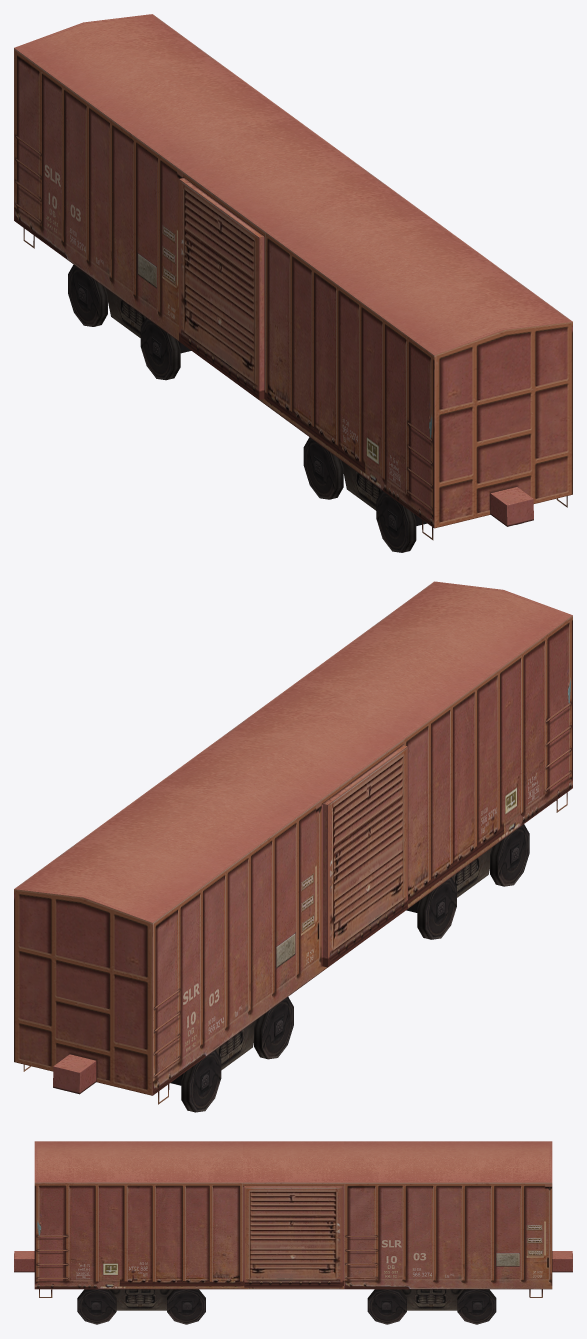
Rendered from Box_Car_LOD_01.fbx.
The picture shows the model from 3 angles, top to bottom: view 1: azimuth 30°, elevation 25°; view 2: azimuth 150°, elevation 25°; view 3: azimuth 270°, elevation 25°; orthographic projection. The views are drawn at different scales.
Parts seen in each view (by area): view 1: BoxCar_Body, Wheels03, Wheels01, Wheels02, Wheels04, Struts01, Struts02; view 2: BoxCar_Body, Wheels04, Wheels02, Wheels03, Wheels01, Struts01, Struts02; view 3: BoxCar_Body, Wheels03, Wheels04, Wheels01, Wheels02, Struts02, Struts01.
Boxes of the visible parts, x1,y1,x2,y2 form: BoxCar_Body: [14, 14, 572, 540]; Wheels03: [140, 317, 191, 380]; Wheels01: [376, 490, 521, 552]; Wheels02: [303, 437, 343, 499]; Wheels04: [68, 264, 107, 326]; Struts01: [341, 460, 381, 510]; Struts02: [105, 288, 145, 337]; BoxCar_Body: [14, 581, 572, 1104]; Wheels04: [170, 1050, 221, 1112]; Wheels02: [406, 877, 456, 939]; Wheels03: [254, 997, 293, 1059]; Wheels01: [490, 824, 529, 886]; Struts01: [451, 848, 491, 897]; Struts02: [216, 1020, 256, 1070]; BoxCar_Body: [14, 1141, 572, 1297]; Wheels03: [367, 1289, 406, 1324]; Wheels04: [457, 1289, 496, 1324]; Wheels01: [77, 1289, 116, 1324]; Wheels02: [167, 1289, 205, 1324]; Struts02: [400, 1289, 463, 1310]; Struts01: [110, 1289, 173, 1310].
Bounding box in the file's own units: 2.17 × 3.4 × 11.48.
